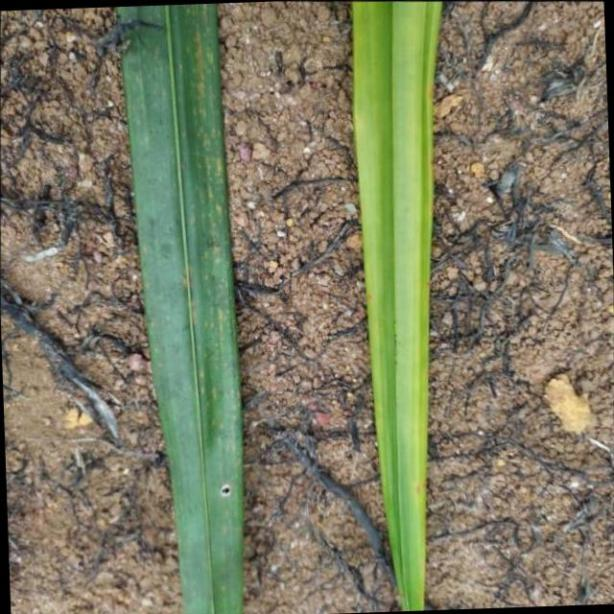nitrogen: (113, 1, 246, 614), (349, 0, 446, 614)
